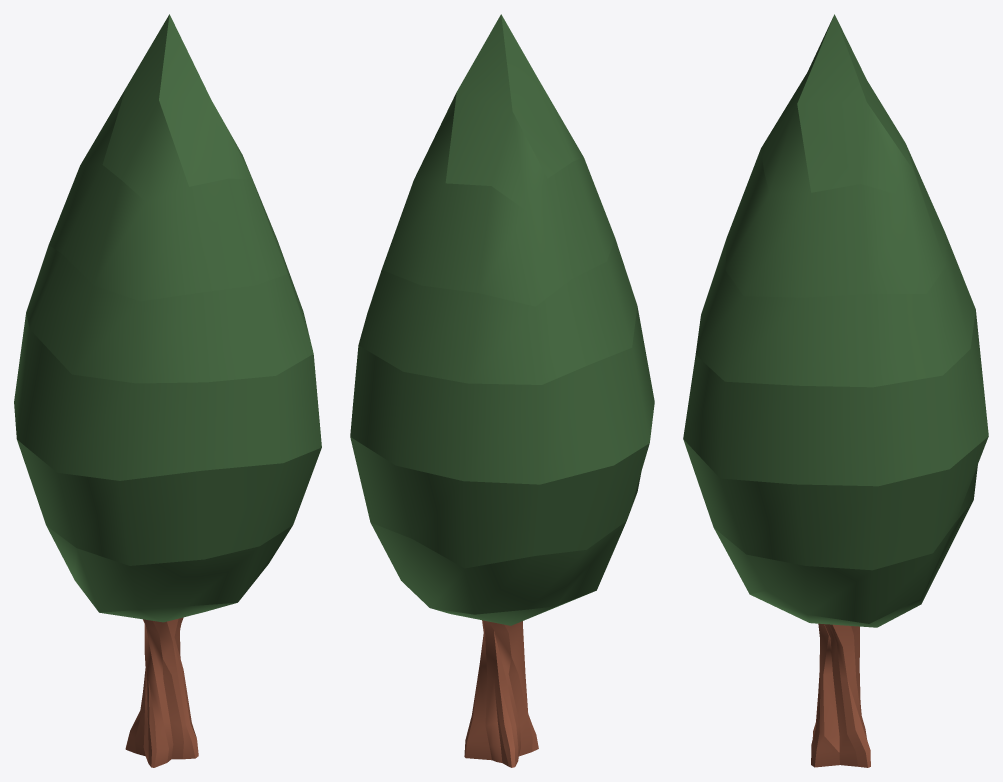
Rendered from Tree_3_Medium.fbx.
3 renders of one model, left to right at view 1: azimuth 30°, elevation 25°; view 2: azimuth 150°, elevation 25°; view 3: azimuth 270°, elevation 25°, orthographic.
Visible parts, largest first — view 1: Tree_3_Medium; view 2: Tree_3_Medium; view 3: Tree_3_Medium.
Part boxes in pixels (x1,y1,x2,y2): Tree_3_Medium: [14, 14, 321, 767]; Tree_3_Medium: [350, 14, 654, 767]; Tree_3_Medium: [683, 14, 988, 767].
Bounding box in the file's own units: 81.06 × 220 × 81.96.
